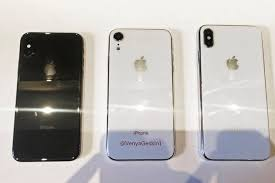iphone: (193, 19, 271, 160), (9, 29, 87, 164), (104, 24, 178, 161)
iphone10: (193, 20, 271, 161), (9, 29, 87, 164), (104, 24, 178, 161)
